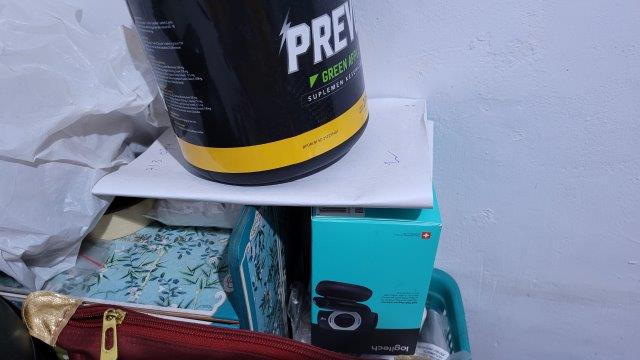kertas: (93, 98, 434, 208)
